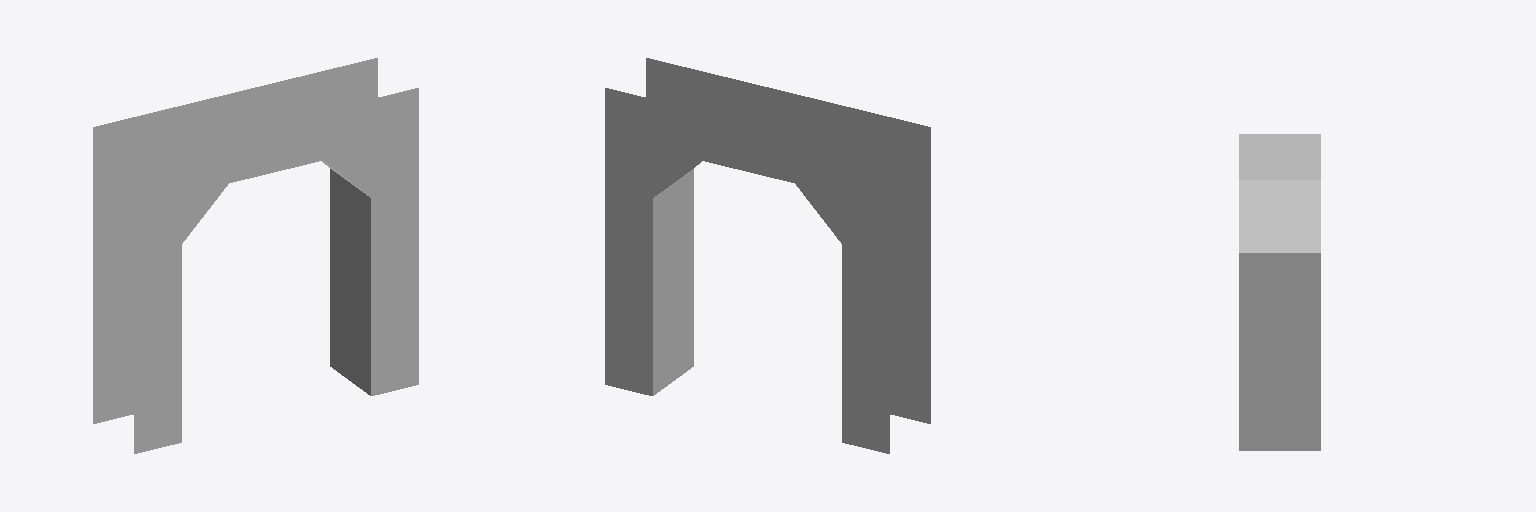
The model's file is door-wall.obj.
3 renders of one model, left to right at view 1: azimuth 30°, elevation 25°; view 2: azimuth 150°, elevation 25°; view 3: azimuth 270°, elevation 25°, orthographic.
Parts seen in each view (by area): view 1: door-wall; view 2: door-wall; view 3: door-wall.
Part boxes in pixels (left/top/right/bottom): door-wall: left=93, top=58, right=418, bottom=453; door-wall: left=605, top=58, right=930, bottom=453; door-wall: left=1239, top=134, right=1320, bottom=450.
Size of the model in its own units: 2 by 2 by 0.5.